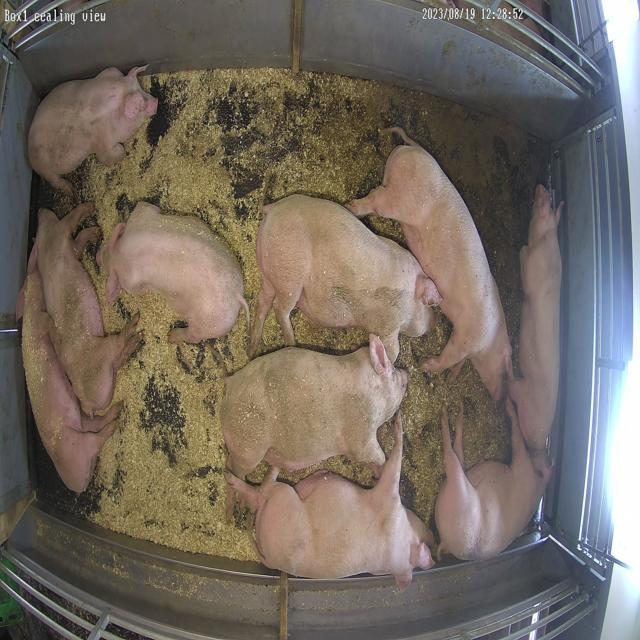Dirt: (286, 73, 544, 330)
Pig: (348, 129, 513, 400), (226, 416, 435, 590), (250, 194, 440, 362), (222, 335, 409, 478), (17, 256, 117, 494), (33, 204, 139, 416), (100, 202, 249, 344), (436, 401, 552, 562), (28, 65, 157, 192), (510, 185, 563, 452)
